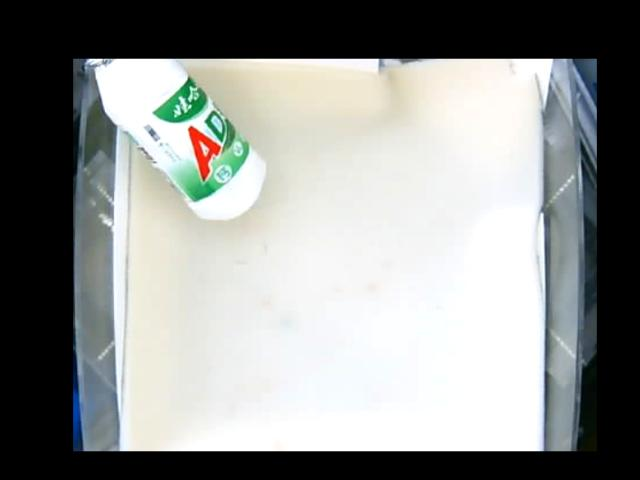Bottle: (87, 59, 268, 223)
